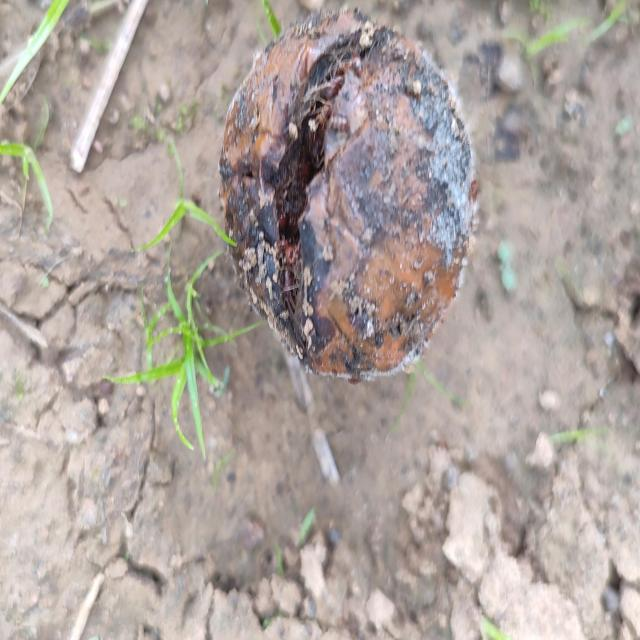damaged: (217, 9, 480, 384)
